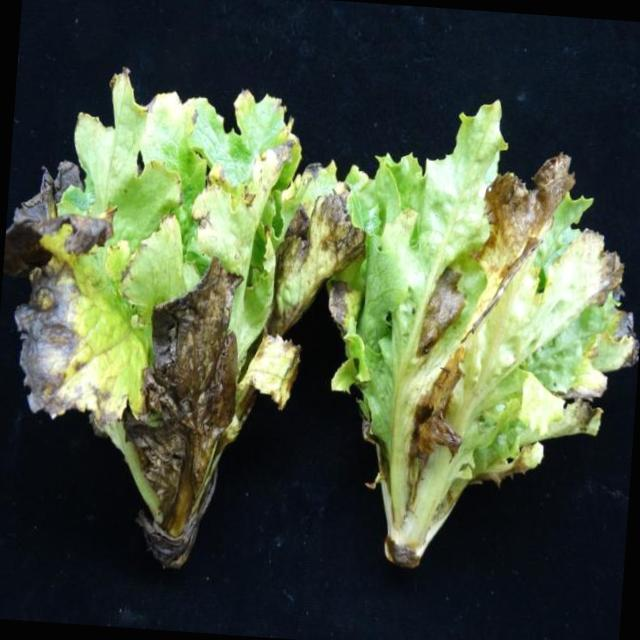Downy_Mildew: (318, 85, 640, 604), (2, 66, 326, 579)
